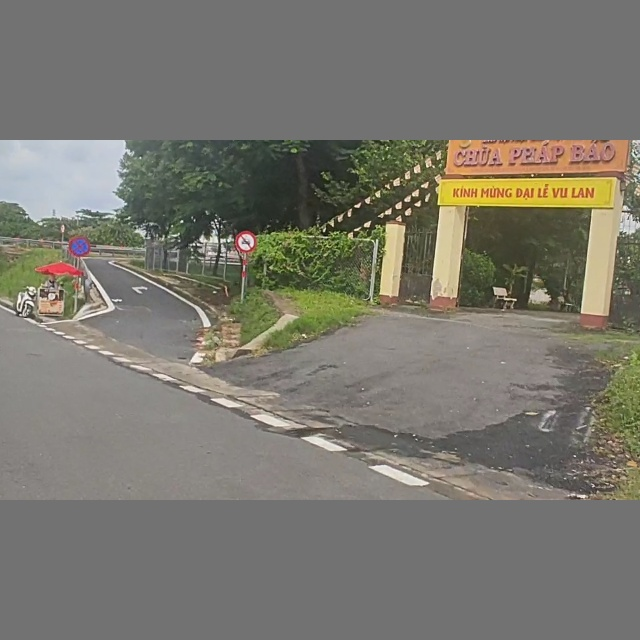P.103a: (235, 230, 257, 253)
P.130: (69, 237, 91, 258)
